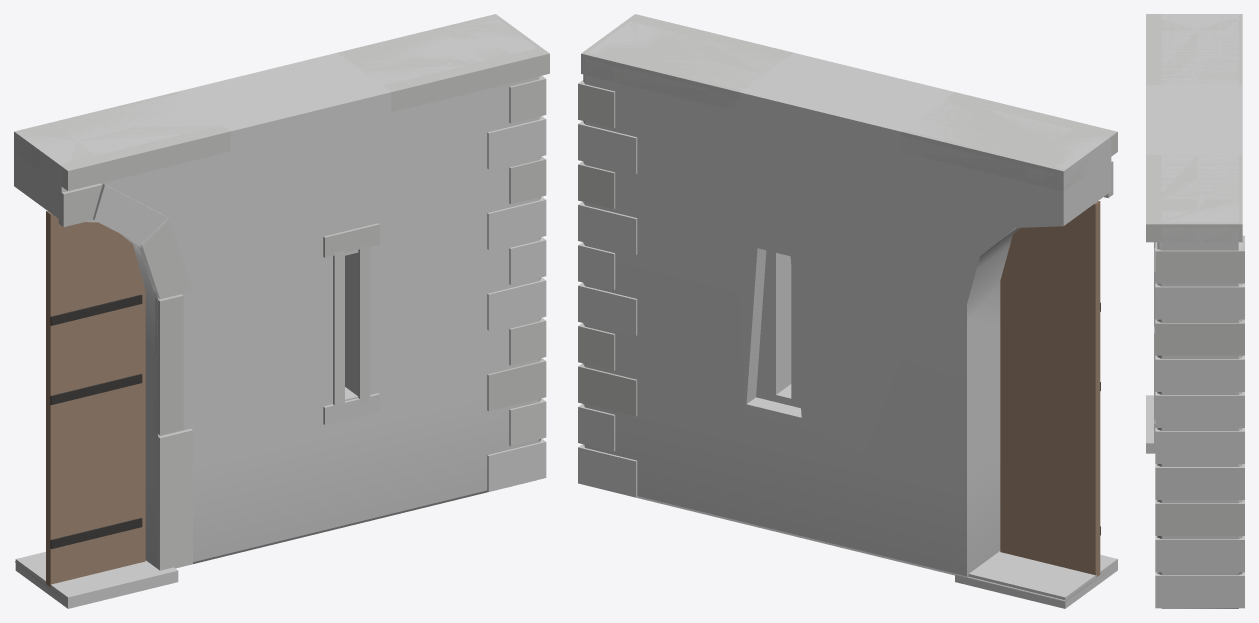
File: Kit_RealKeep_W1FR_Fractured.fbx
3 renders of one model, left to right at view 1: azimuth 30°, elevation 25°; view 2: azimuth 150°, elevation 25°; view 3: azimuth 270°, elevation 25°, orthographic. The views are drawn at different scales.
Visible parts, largest first — view 1: Kit_RealKeep_W1FR_frag_02, Kit_RealKeep_W1FR_frag_03, Kit_RealKeep_W1FR_frag_01, Kit_RealKeep_W1FR_frag_06, Kit_RealKeep_W1FR_frag_05, Kit_RealKeep_W1FR_frag_04, Kit_RealKeep_W1FR_frag_09, Kit_RealKeep_W1FR_frag_08, Kit_RealKeep_W1FR_frag_07, Kit_RealKeep_W1FR_frag_10; view 2: Kit_RealKeep_W1FR_frag_02, Kit_RealKeep_W1FR_frag_03, Kit_RealKeep_W1FR_frag_01, Kit_RealKeep_W1FR_frag_06, Kit_RealKeep_W1FR_frag_04, Kit_RealKeep_W1FR_frag_05, Kit_RealKeep_W1FR_frag_09, Kit_RealKeep_W1FR_frag_07, Kit_RealKeep_W1FR_frag_10, Kit_RealKeep_W1FR_frag_08; view 3: Kit_RealKeep_W1FR_frag_06, Kit_RealKeep_W1FR_frag_05, Kit_RealKeep_W1FR_frag_02, Kit_RealKeep_W1FR_frag_04, Kit_RealKeep_W1FR_frag_09, Kit_RealKeep_W1FR_frag_07, Kit_RealKeep_W1FR_frag_10, Kit_RealKeep_W1FR_frag_08, Kit_RealKeep_W1FR_frag_01, Kit_RealKeep_W1FR_frag_03.
Boxes of the visible parts, x1,y1,x2,y2 form: Kit_RealKeep_W1FR_frag_02: [14, 92, 230, 398]; Kit_RealKeep_W1FR_frag_03: [222, 223, 384, 556]; Kit_RealKeep_W1FR_frag_01: [15, 294, 223, 608]; Kit_RealKeep_W1FR_frag_06: [337, 14, 549, 301]; Kit_RealKeep_W1FR_frag_05: [383, 271, 546, 517]; Kit_RealKeep_W1FR_frag_04: [177, 53, 390, 265]; Kit_RealKeep_W1FR_frag_09: [487, 196, 546, 284]; Kit_RealKeep_W1FR_frag_08: [487, 277, 546, 330]; Kit_RealKeep_W1FR_frag_07: [487, 438, 546, 491]; Kit_RealKeep_W1FR_frag_10: [487, 116, 546, 169]; Kit_RealKeep_W1FR_frag_02: [901, 92, 1117, 389]; Kit_RealKeep_W1FR_frag_03: [740, 231, 902, 562]; Kit_RealKeep_W1FR_frag_01: [901, 338, 1117, 608]; Kit_RealKeep_W1FR_frag_06: [578, 14, 793, 306]; Kit_RealKeep_W1FR_frag_04: [740, 53, 954, 270]; Kit_RealKeep_W1FR_frag_05: [578, 276, 741, 523]; Kit_RealKeep_W1FR_frag_09: [578, 201, 637, 289]; Kit_RealKeep_W1FR_frag_07: [578, 444, 637, 497]; Kit_RealKeep_W1FR_frag_10: [578, 121, 637, 174]; Kit_RealKeep_W1FR_frag_08: [578, 282, 637, 335]; Kit_RealKeep_W1FR_frag_06: [1146, 155, 1244, 394]; Kit_RealKeep_W1FR_frag_05: [1155, 428, 1244, 608]; Kit_RealKeep_W1FR_frag_02: [1146, 14, 1242, 84]; Kit_RealKeep_W1FR_frag_04: [1146, 85, 1242, 154]; Kit_RealKeep_W1FR_frag_09: [1155, 355, 1244, 427]; Kit_RealKeep_W1FR_frag_07: [1155, 572, 1244, 608]; Kit_RealKeep_W1FR_frag_10: [1155, 283, 1244, 319]; Kit_RealKeep_W1FR_frag_08: [1155, 428, 1244, 463]; Kit_RealKeep_W1FR_frag_01: [1146, 242, 1155, 453]; Kit_RealKeep_W1FR_frag_03: [1154, 248, 1155, 438].
Size of what is drawn, in the model's own units: 3.51 by 3.04 by 0.695.
